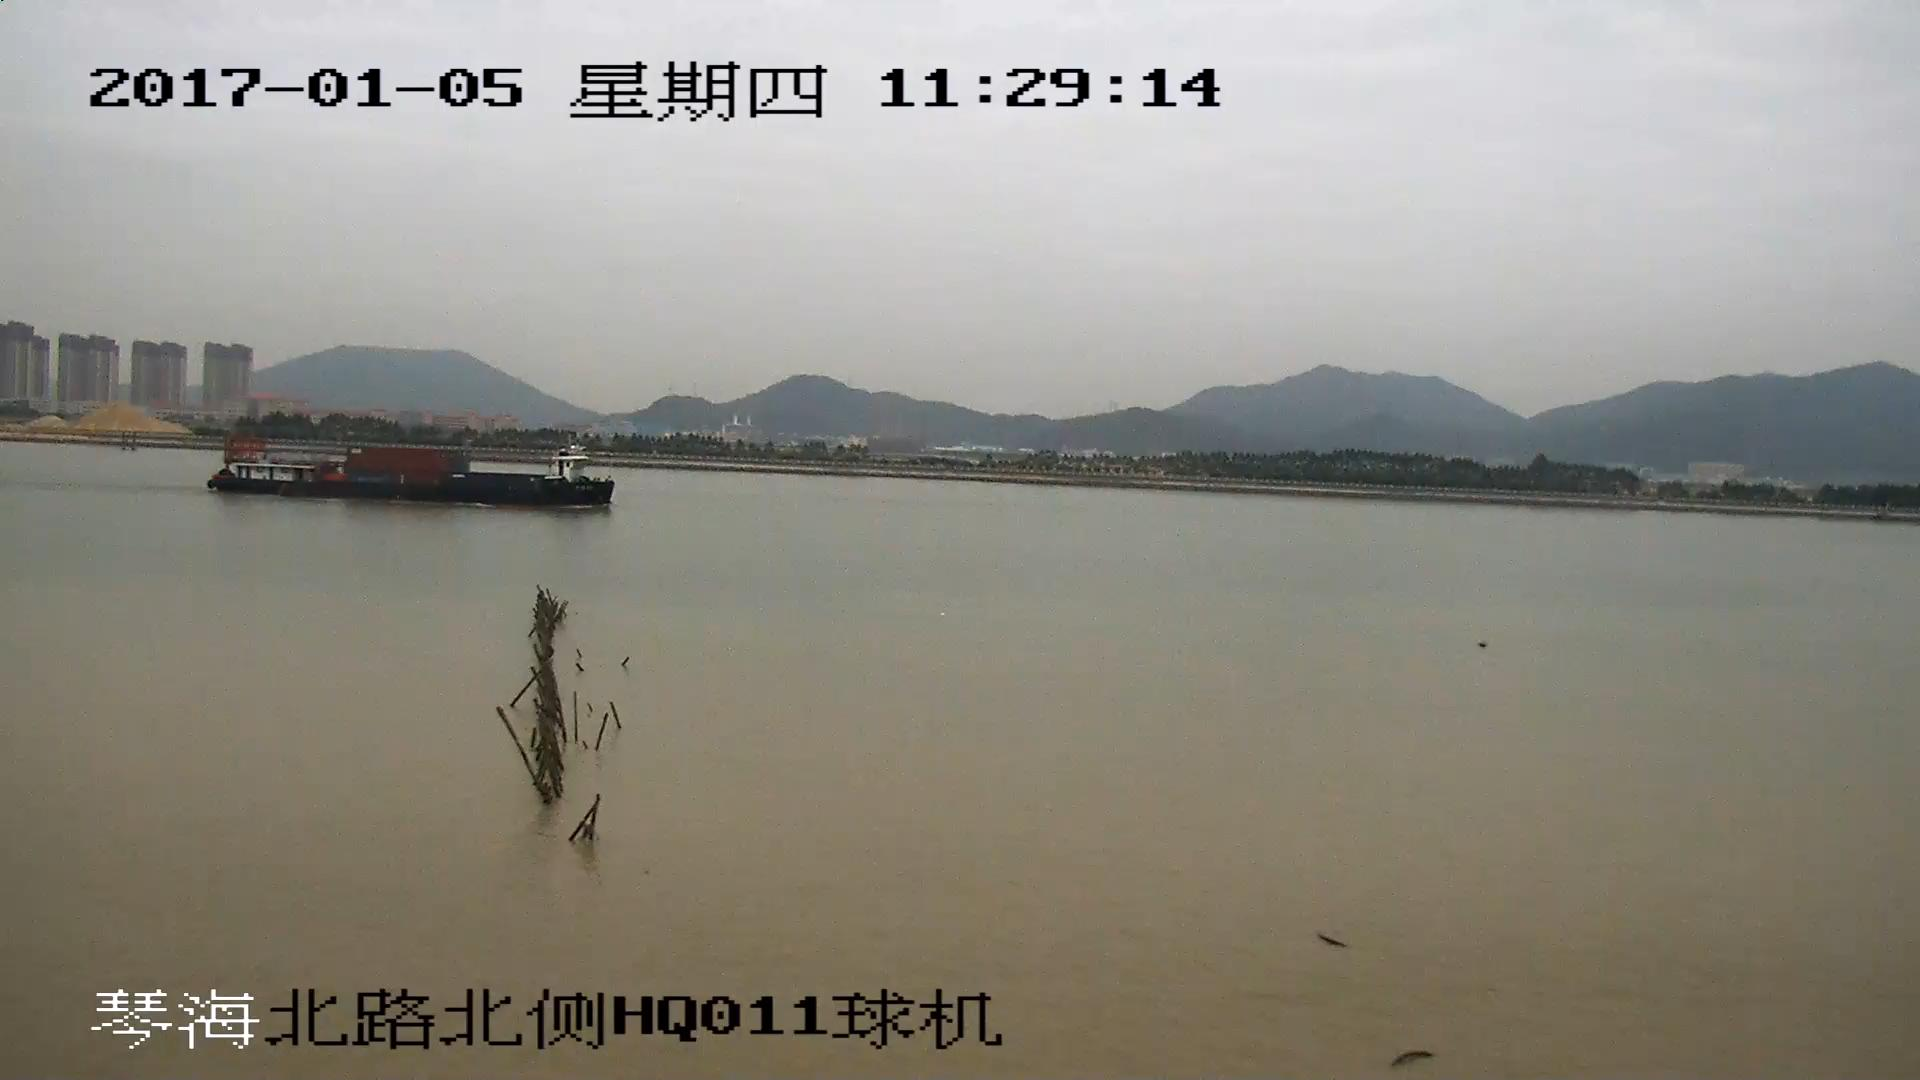container ship: (204, 437, 612, 510)
